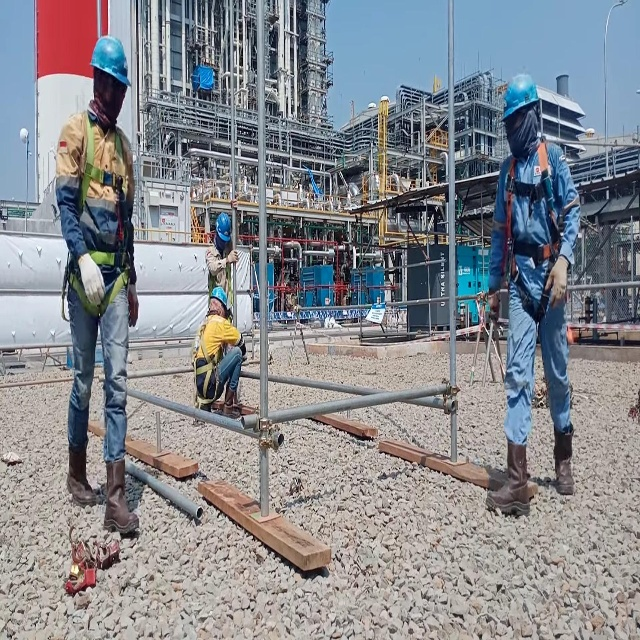Arnes_seguridad: (59, 103, 131, 327), (501, 144, 562, 323), (190, 312, 222, 406)
